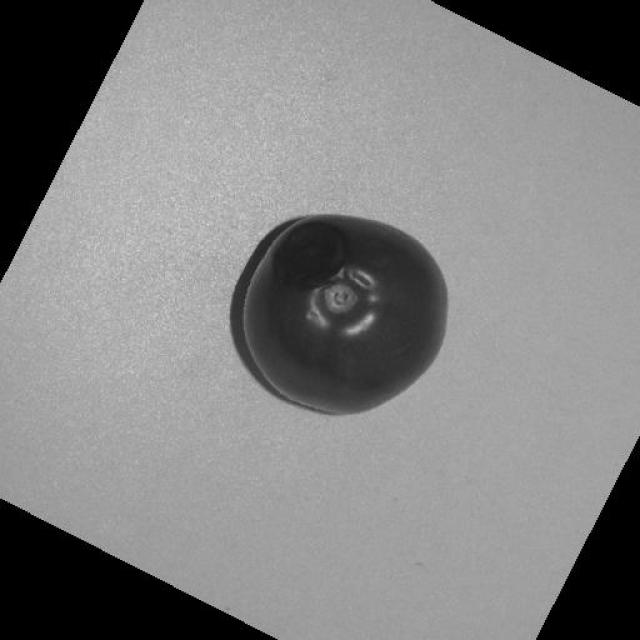Stale_tomato: (262, 234, 408, 341)
